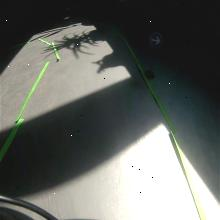right: (150, 30, 161, 48)
